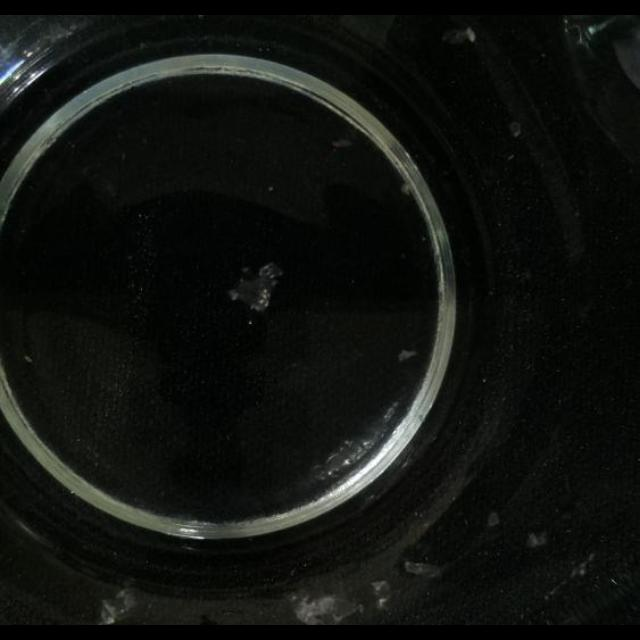Fibre: (229, 260, 285, 314), (292, 592, 358, 624), (101, 587, 141, 623), (404, 560, 444, 578), (444, 26, 474, 44), (400, 181, 414, 197)
microbeads: (540, 550, 606, 606), (570, 554, 596, 580), (369, 580, 393, 608), (525, 530, 547, 548), (398, 348, 418, 362), (486, 512, 500, 528)
